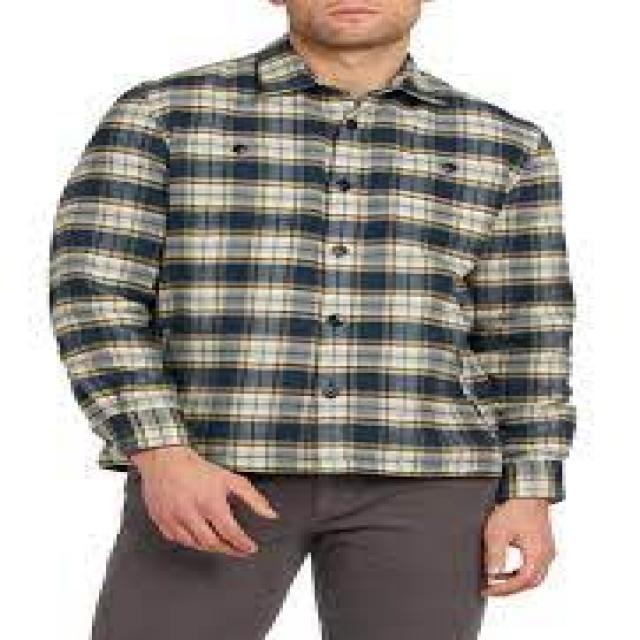plaid: (33, 50, 581, 497)
